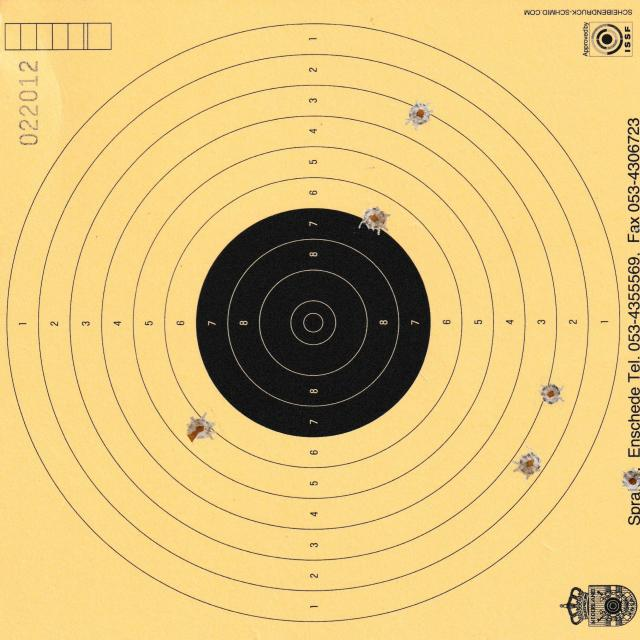3: (511, 448, 546, 481)
4: (401, 98, 437, 130), (538, 382, 568, 406)
7: (183, 409, 219, 444)
8: (357, 205, 392, 236)
Black Contour: (197, 206, 431, 438)
Target: (5, 19, 623, 624)
hole: (618, 466, 640, 493)
